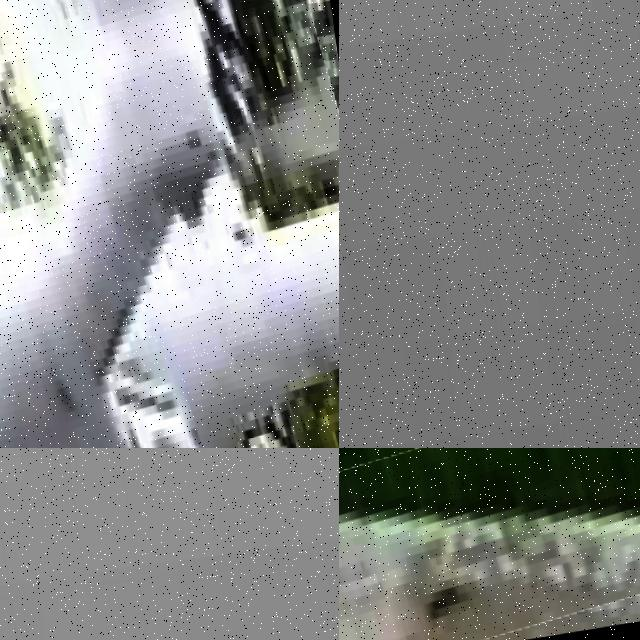drone: (0, 0, 339, 448), (339, 448, 640, 640)
